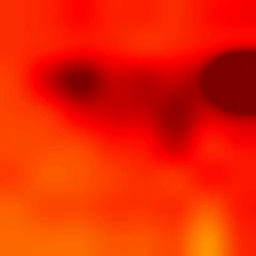person: (48, 51, 194, 142)
